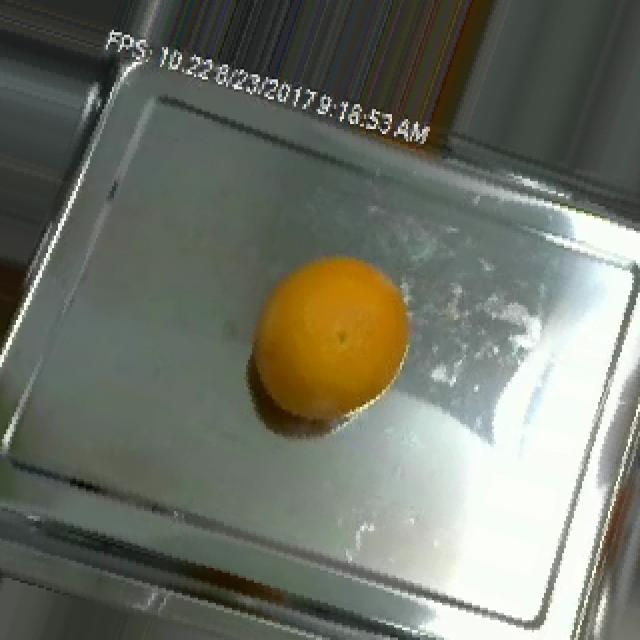Fruit: (228, 241, 432, 449)
